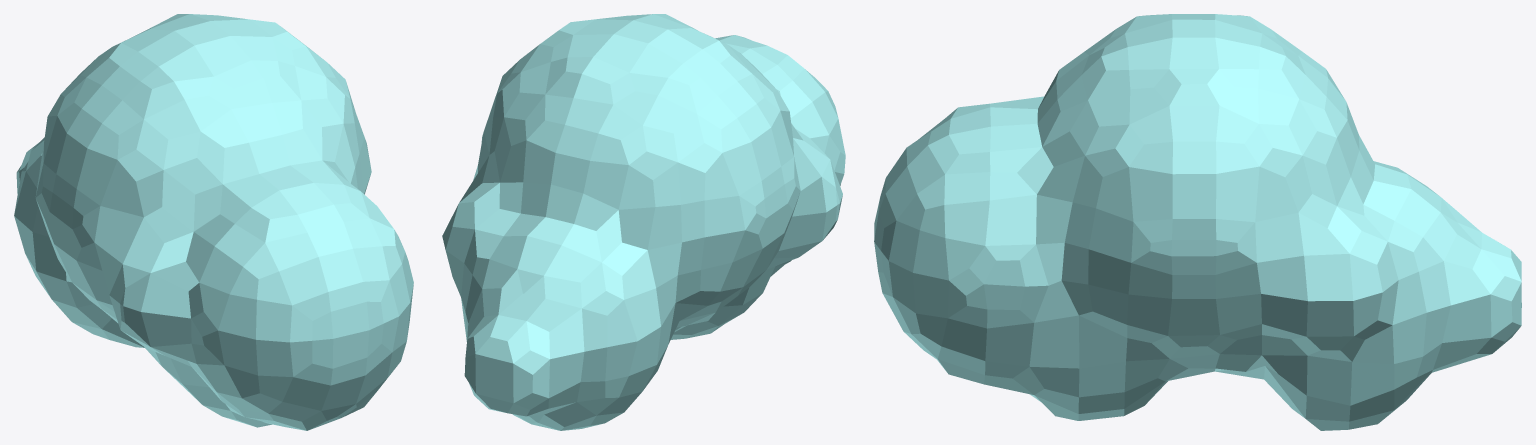
Rendered from st1_cloud3.fbx.
The picture shows the model from 3 angles, left to right: view 1: azimuth 30°, elevation 25°; view 2: azimuth 150°, elevation 25°; view 3: azimuth 270°, elevation 25°; orthographic projection. The views are drawn at different scales.
Parts seen in each view (by area): view 1: Icosphere_004; view 2: Icosphere_004; view 3: Icosphere_004.
Part boxes in pixels (<box>): Icosphere_004: <box>14,14,413,430</box>; Icosphere_004: <box>442,14,845,430</box>; Icosphere_004: <box>874,14,1521,430</box>.
Size of the model in its own units: 764 by 911 by 1387.
